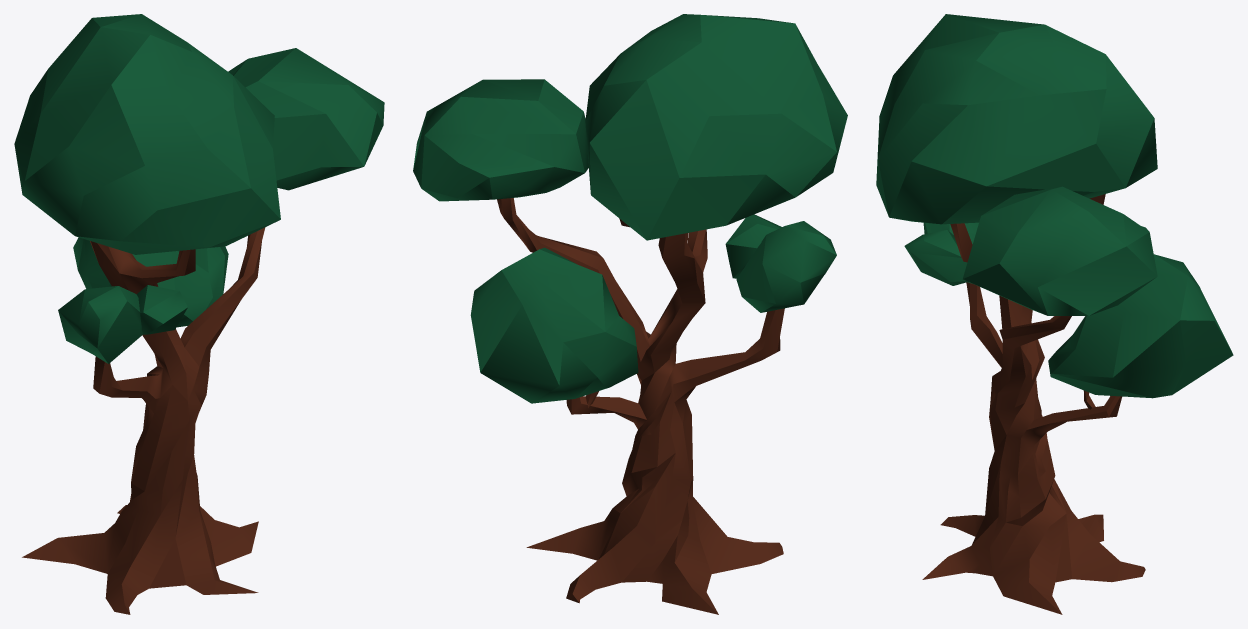
File: Tree_4b.fbx
3 renders of one model, left to right at view 1: azimuth 30°, elevation 25°; view 2: azimuth 150°, elevation 25°; view 3: azimuth 270°, elevation 25°, orthographic. The views are drawn at different scales.
Parts seen in each view (by area): view 1: Tree_4b; view 2: Tree_4b; view 3: Tree_4b.
Boxes of the visible parts, x1,y1,x2,y2 form: Tree_4b: [14, 14, 384, 614]; Tree_4b: [413, 14, 847, 614]; Tree_4b: [876, 14, 1233, 614].
Size of the model in its own units: 167 by 224 by 140.
